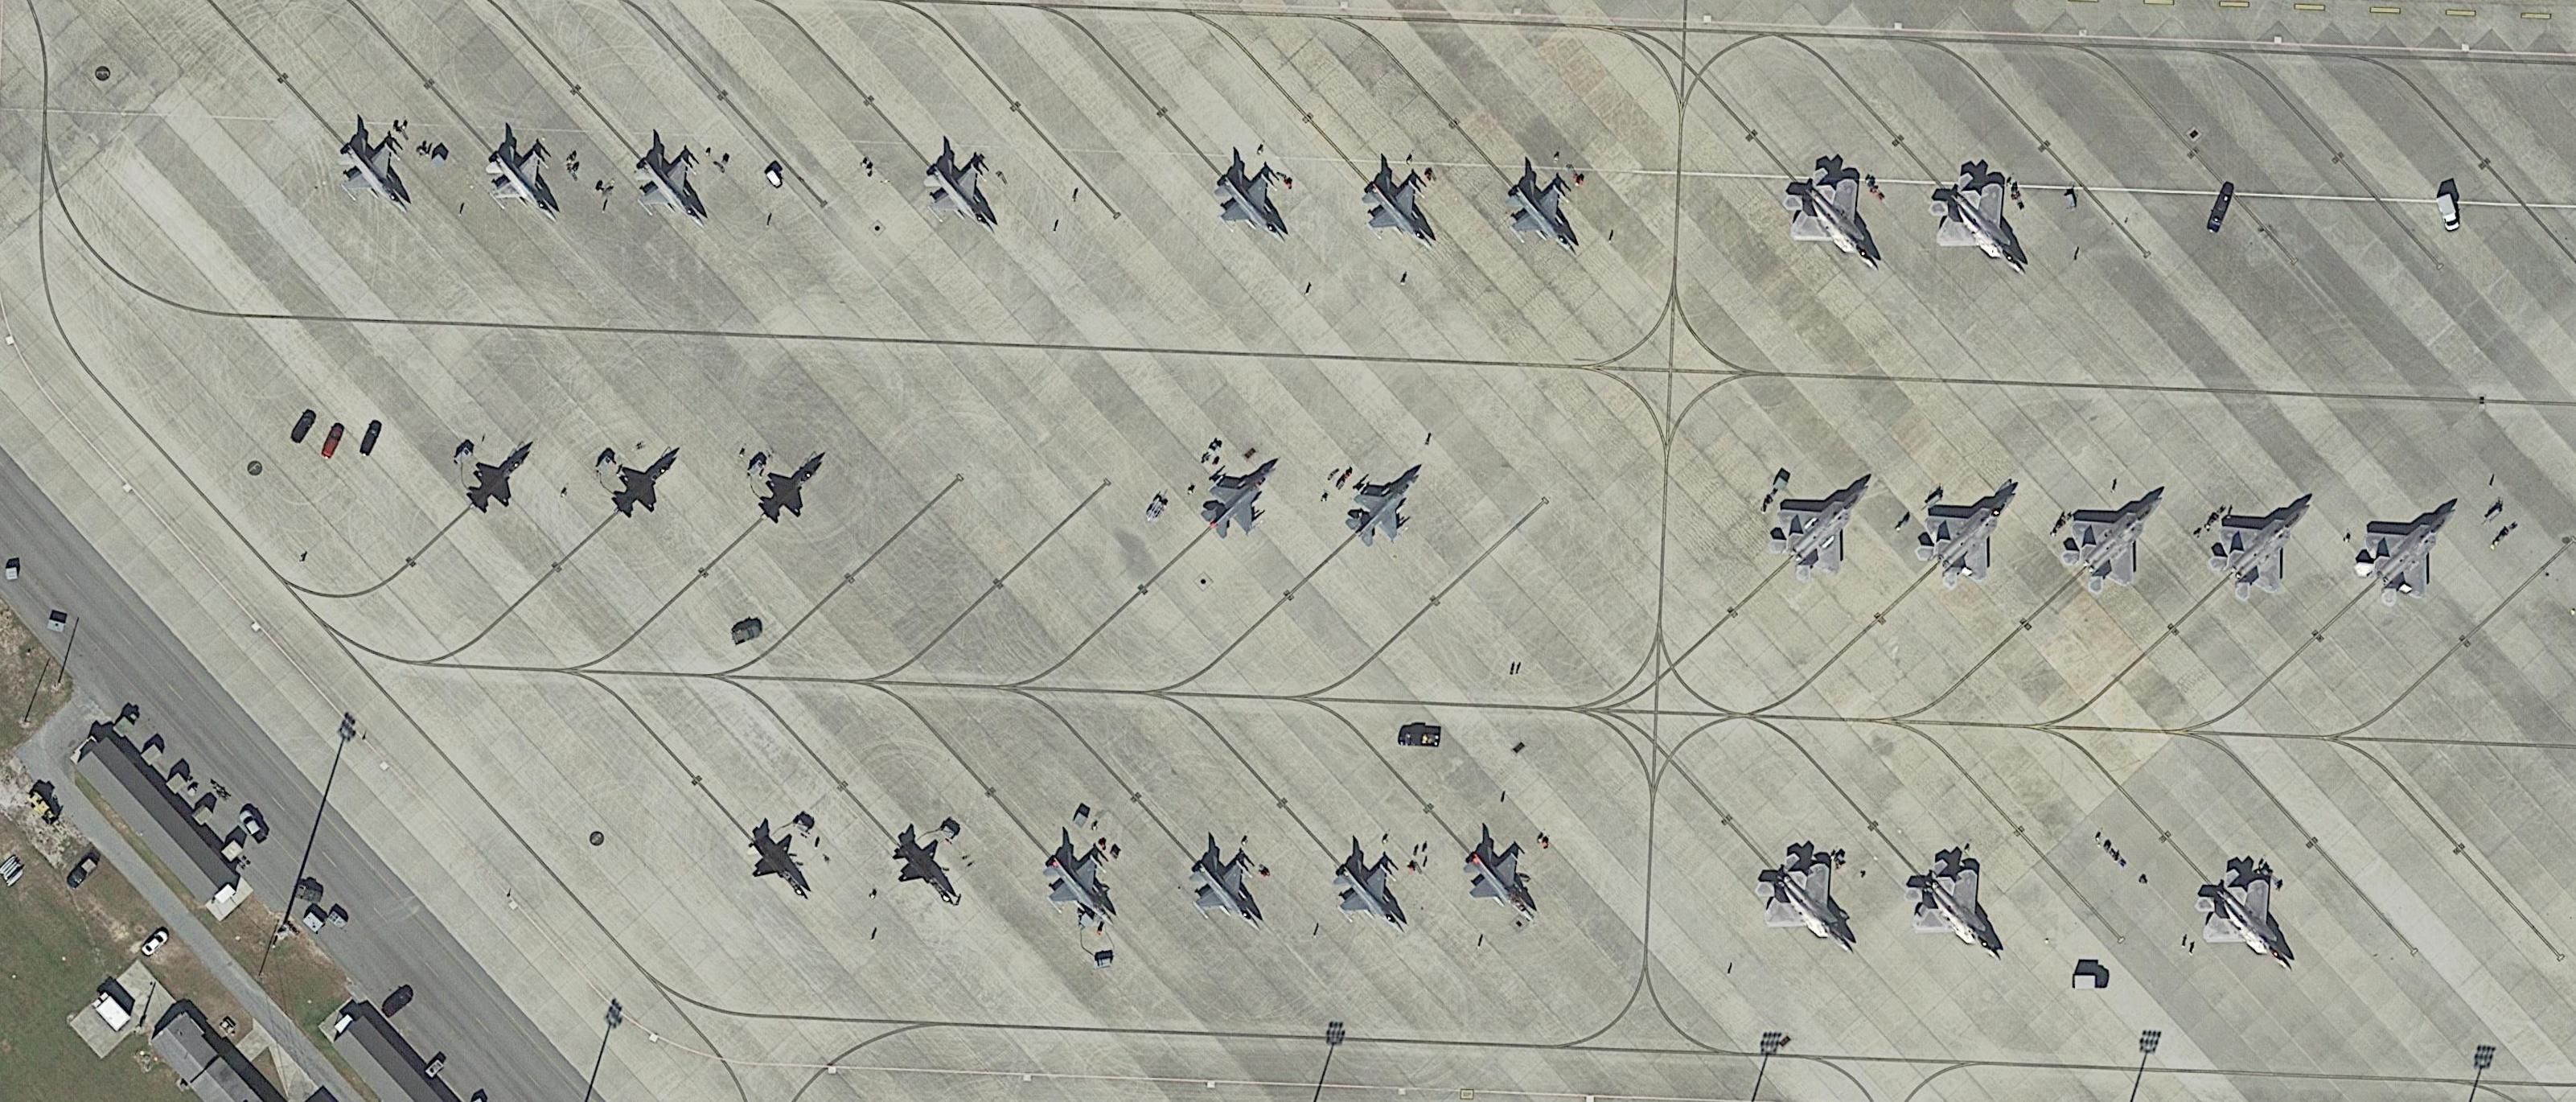plane: (1760, 148, 1917, 305), (1886, 843, 2034, 997), (1738, 838, 1886, 984), (2180, 852, 2323, 1003), (1750, 452, 1894, 599), (2049, 463, 2192, 609), (2195, 473, 2336, 618), (1917, 158, 2057, 301), (2343, 481, 2482, 624), (1904, 461, 2042, 604), (1198, 154, 1313, 269), (1488, 163, 1602, 279), (614, 136, 728, 253), (907, 145, 1020, 259), (470, 131, 583, 246), (1027, 834, 1137, 953), (1345, 159, 1457, 274), (322, 120, 434, 235), (1316, 846, 1428, 959), (1175, 841, 1283, 954), (1447, 831, 1556, 944), (1189, 443, 1296, 550), (1339, 455, 1441, 562), (881, 823, 979, 928), (731, 816, 831, 916), (600, 434, 697, 530), (746, 439, 840, 539), (455, 430, 549, 526)
